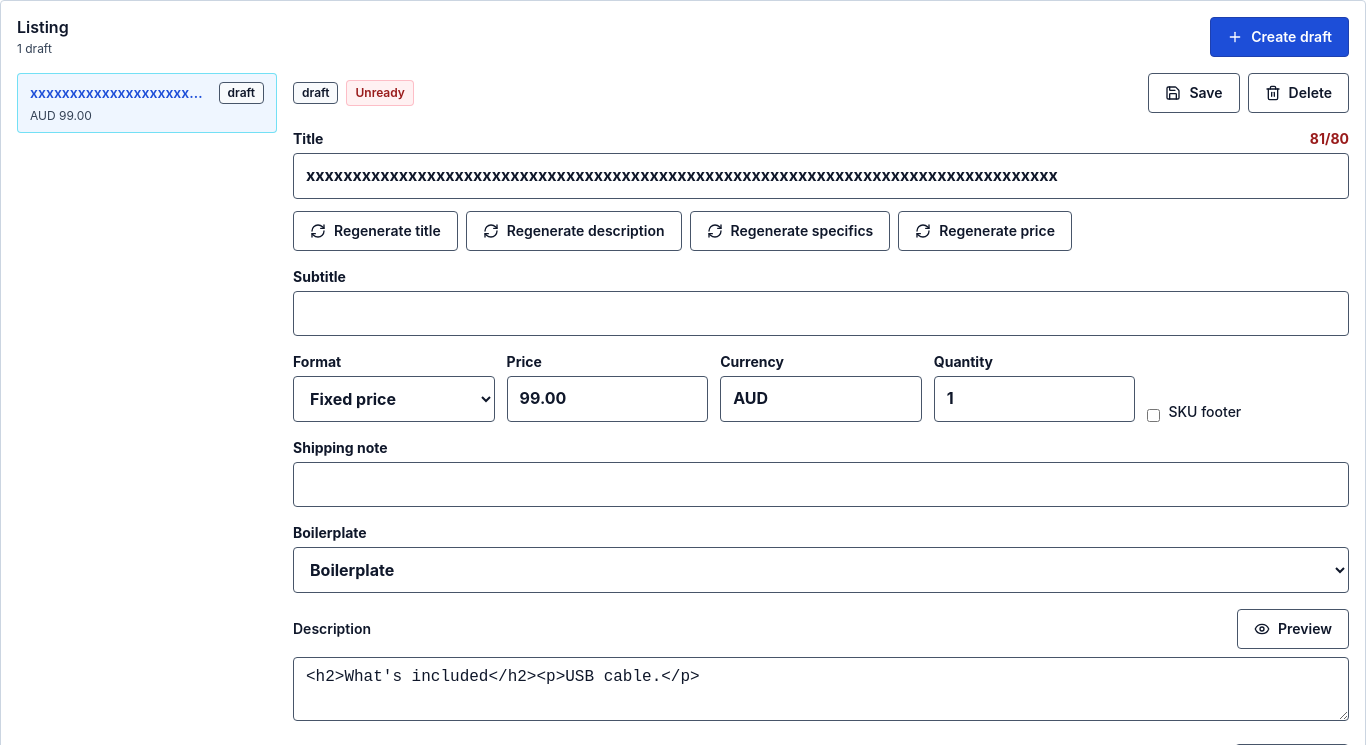
Test: ListingPanel asks before regenerating edited title only
Click the button "Regenerate specifics": (790, 231) [690,211,890,251]
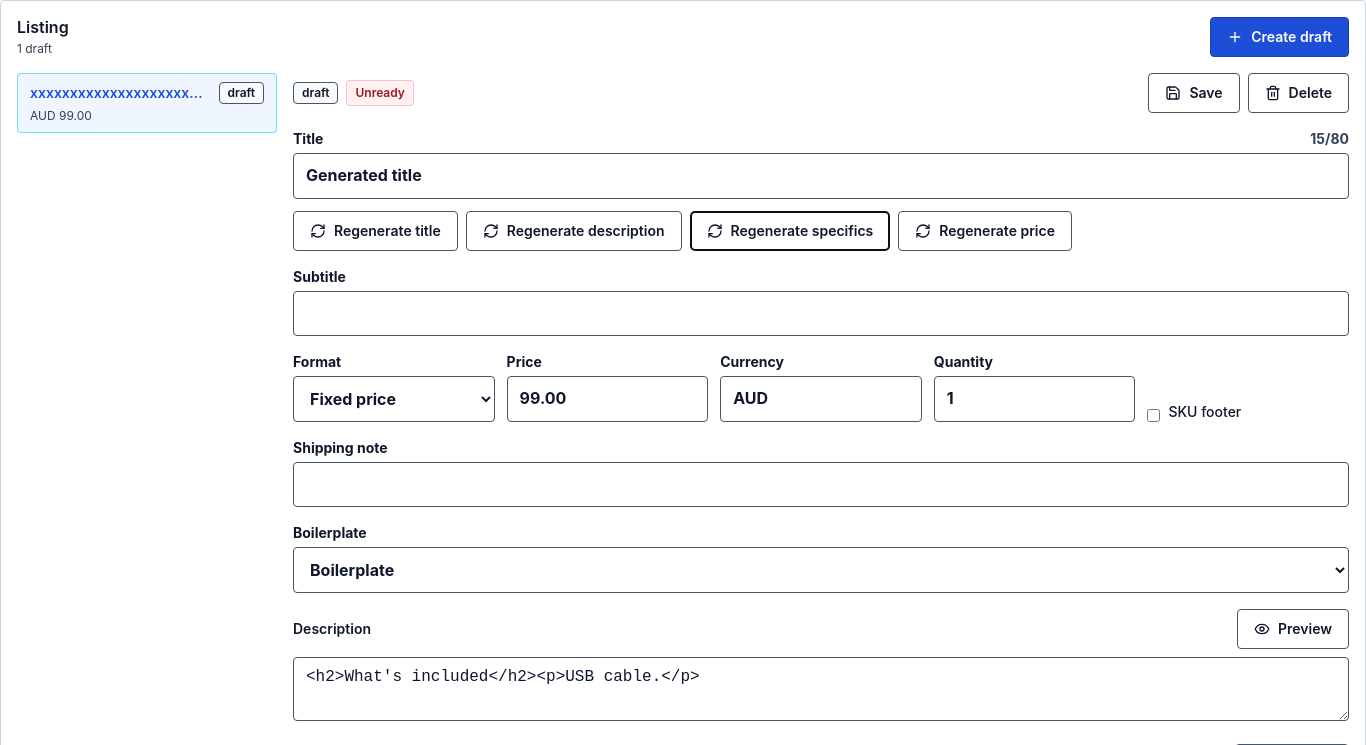
Expected: the text "Overwrite edited title?" is not shown
Click the button "Regenerate title": (375, 231) [293,211,458,251]
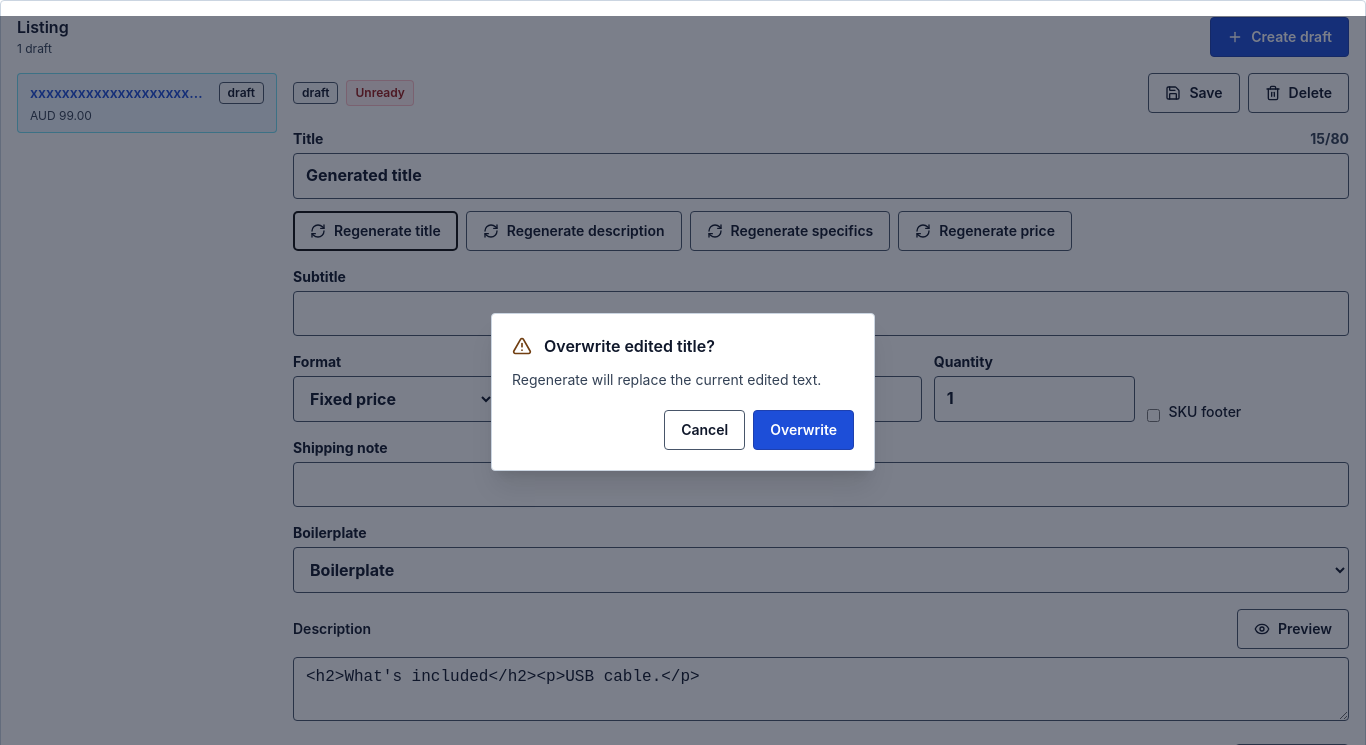
Result: the heading "Overwrite edited title?" is shown at [544,334,715,358]
